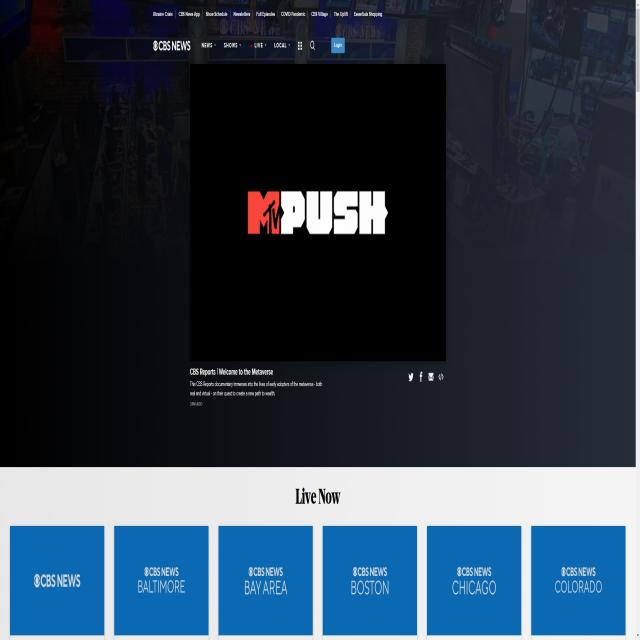tab-bar: (152, 33, 346, 56), (149, 5, 385, 22)
